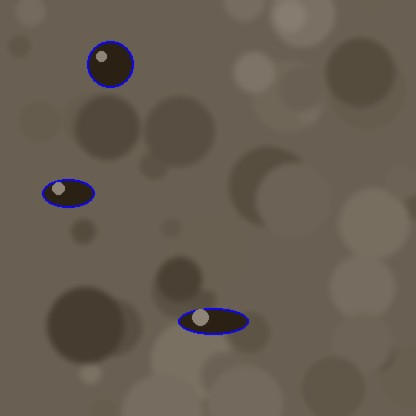gota: (87, 43, 133, 91), (178, 309, 248, 337), (42, 180, 94, 210)
